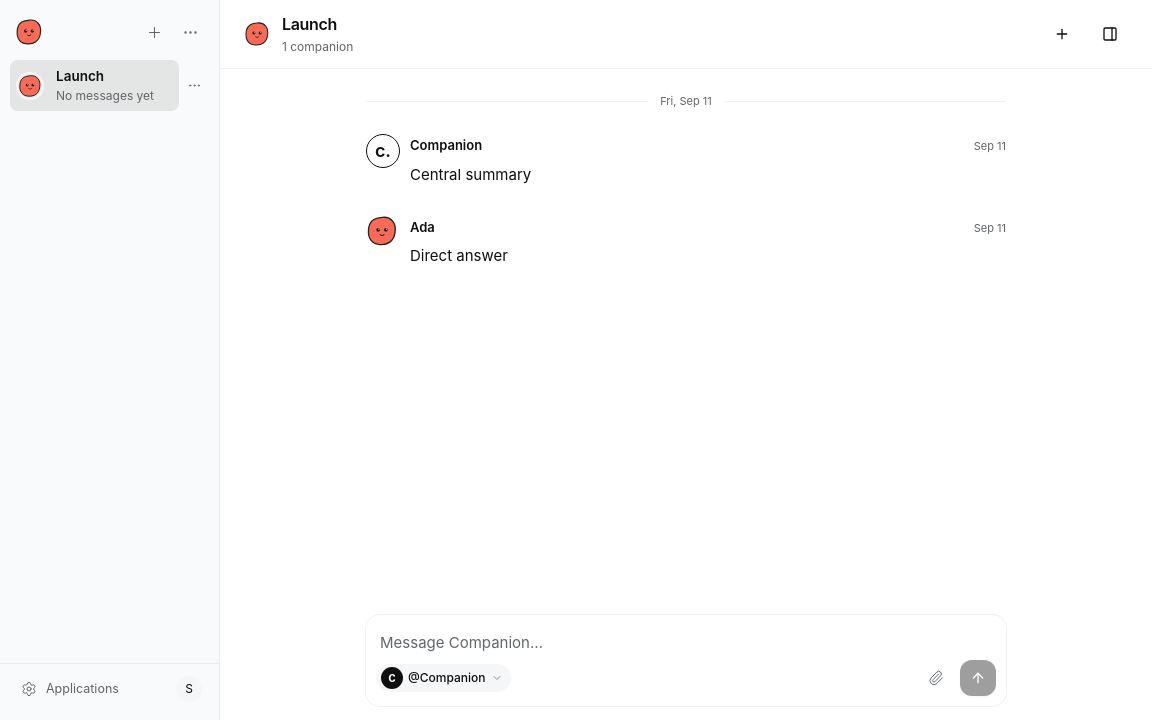
it: lets Central present delegated results once while direct replies stay in the thread
The image size is (1164, 720).
Check: the text "Central summary" is shown, box [410,164,531,184]
Check: the text "Direct answer" is shown, box [410,246,508,265]
Click the button named "Workspace" at {"x": 1110, "y": 34}, box [1092,16,1128,52]
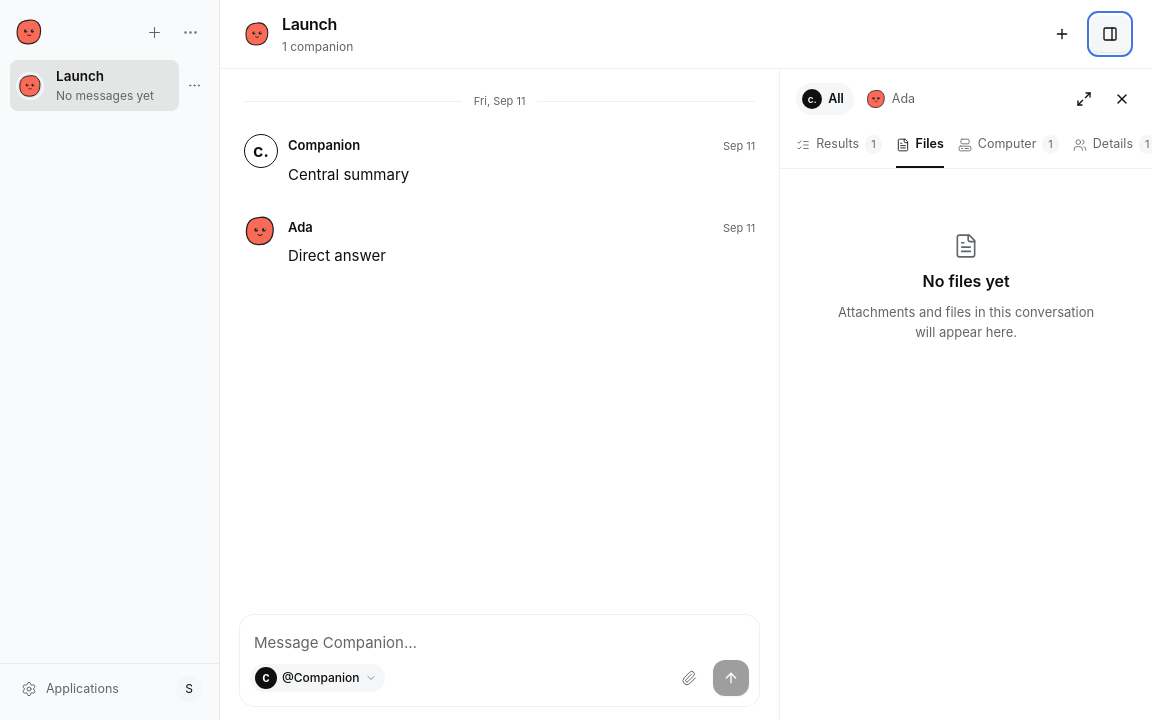
Click the tab "Ada" at {"x": 892, "y": 99}, box [860,83,925,115]
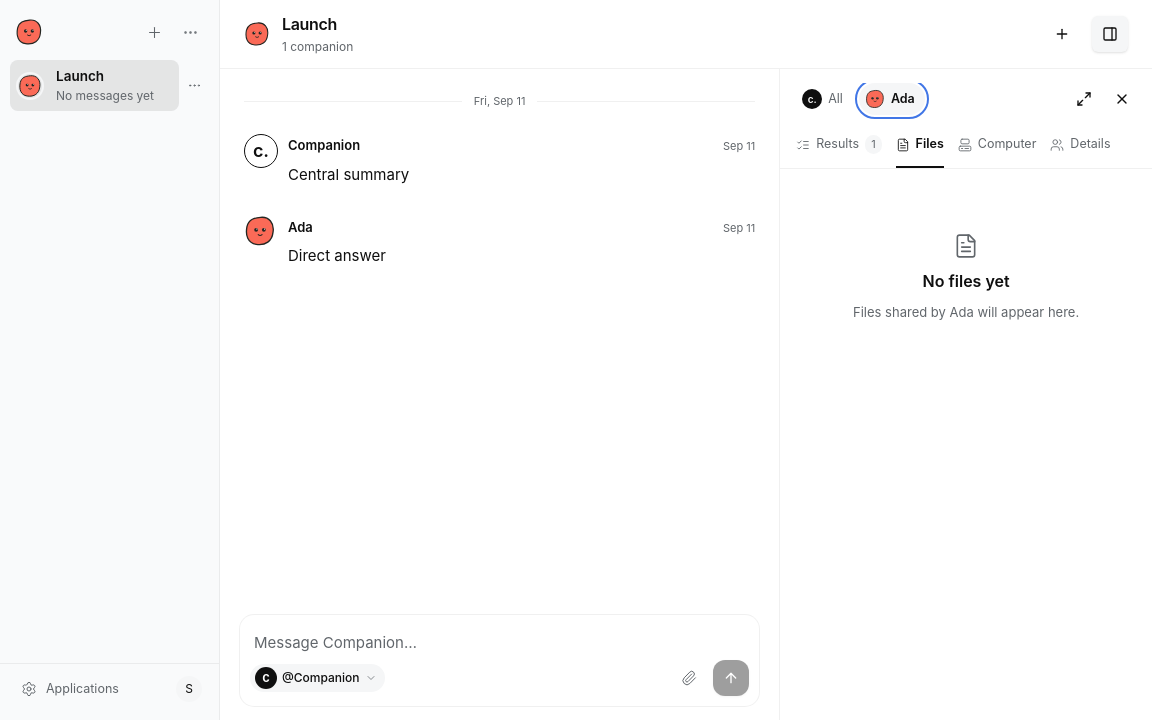
Click the button "Results 1" at {"x": 839, "y": 146}, box [796,125,882,168]
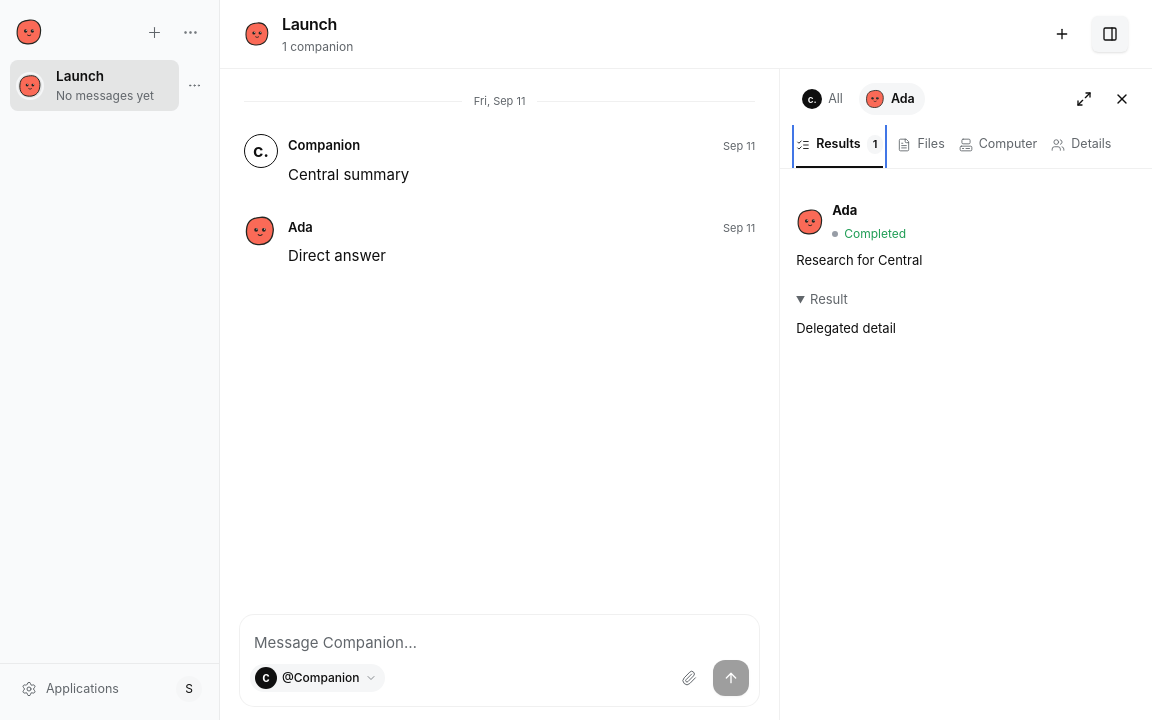
Check: the text "Delegated detail" is shown, box [796,320,896,336]
